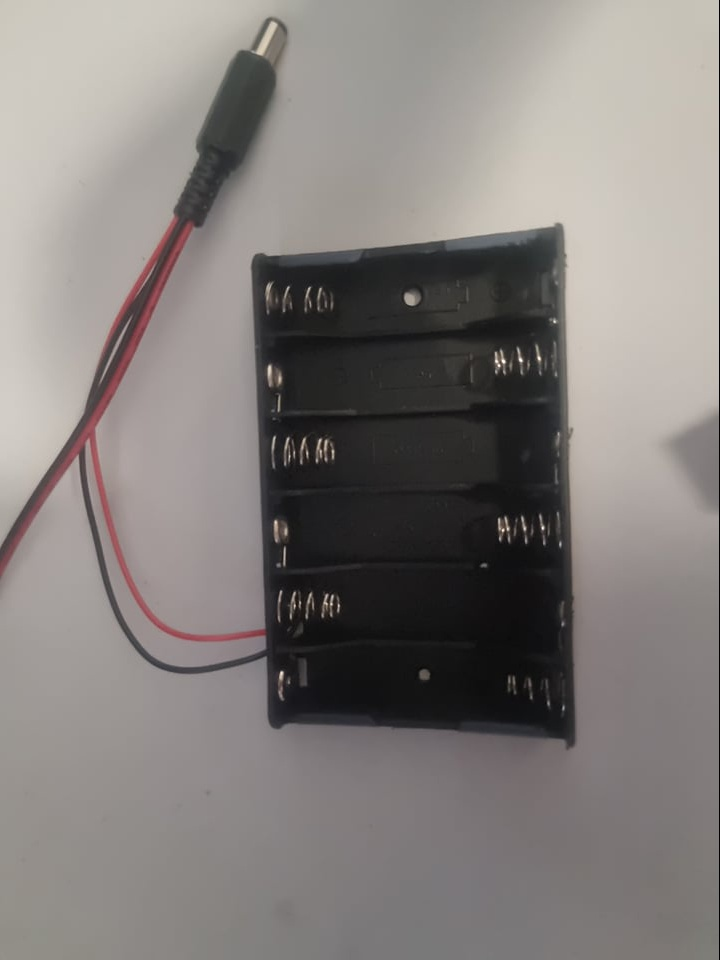BATTERY BOX: (251, 222, 579, 746)
